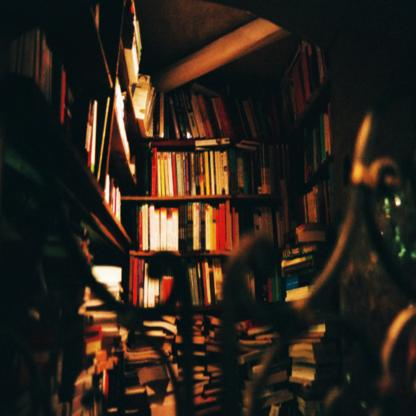book: (0, 0, 153, 415), (233, 141, 339, 328), (226, 313, 311, 415), (156, 318, 224, 415), (280, 36, 340, 134), (150, 92, 257, 142), (150, 146, 242, 200), (284, 109, 342, 183), (193, 203, 252, 263), (124, 258, 178, 316), (134, 197, 178, 254), (192, 265, 236, 309)
